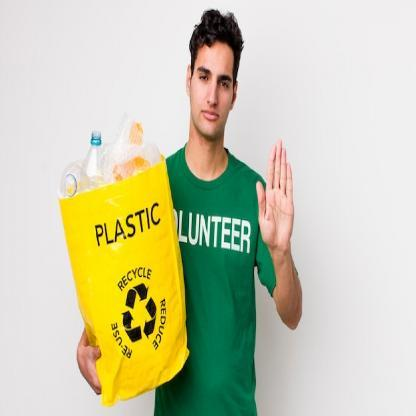stop: (256, 140, 294, 258)
